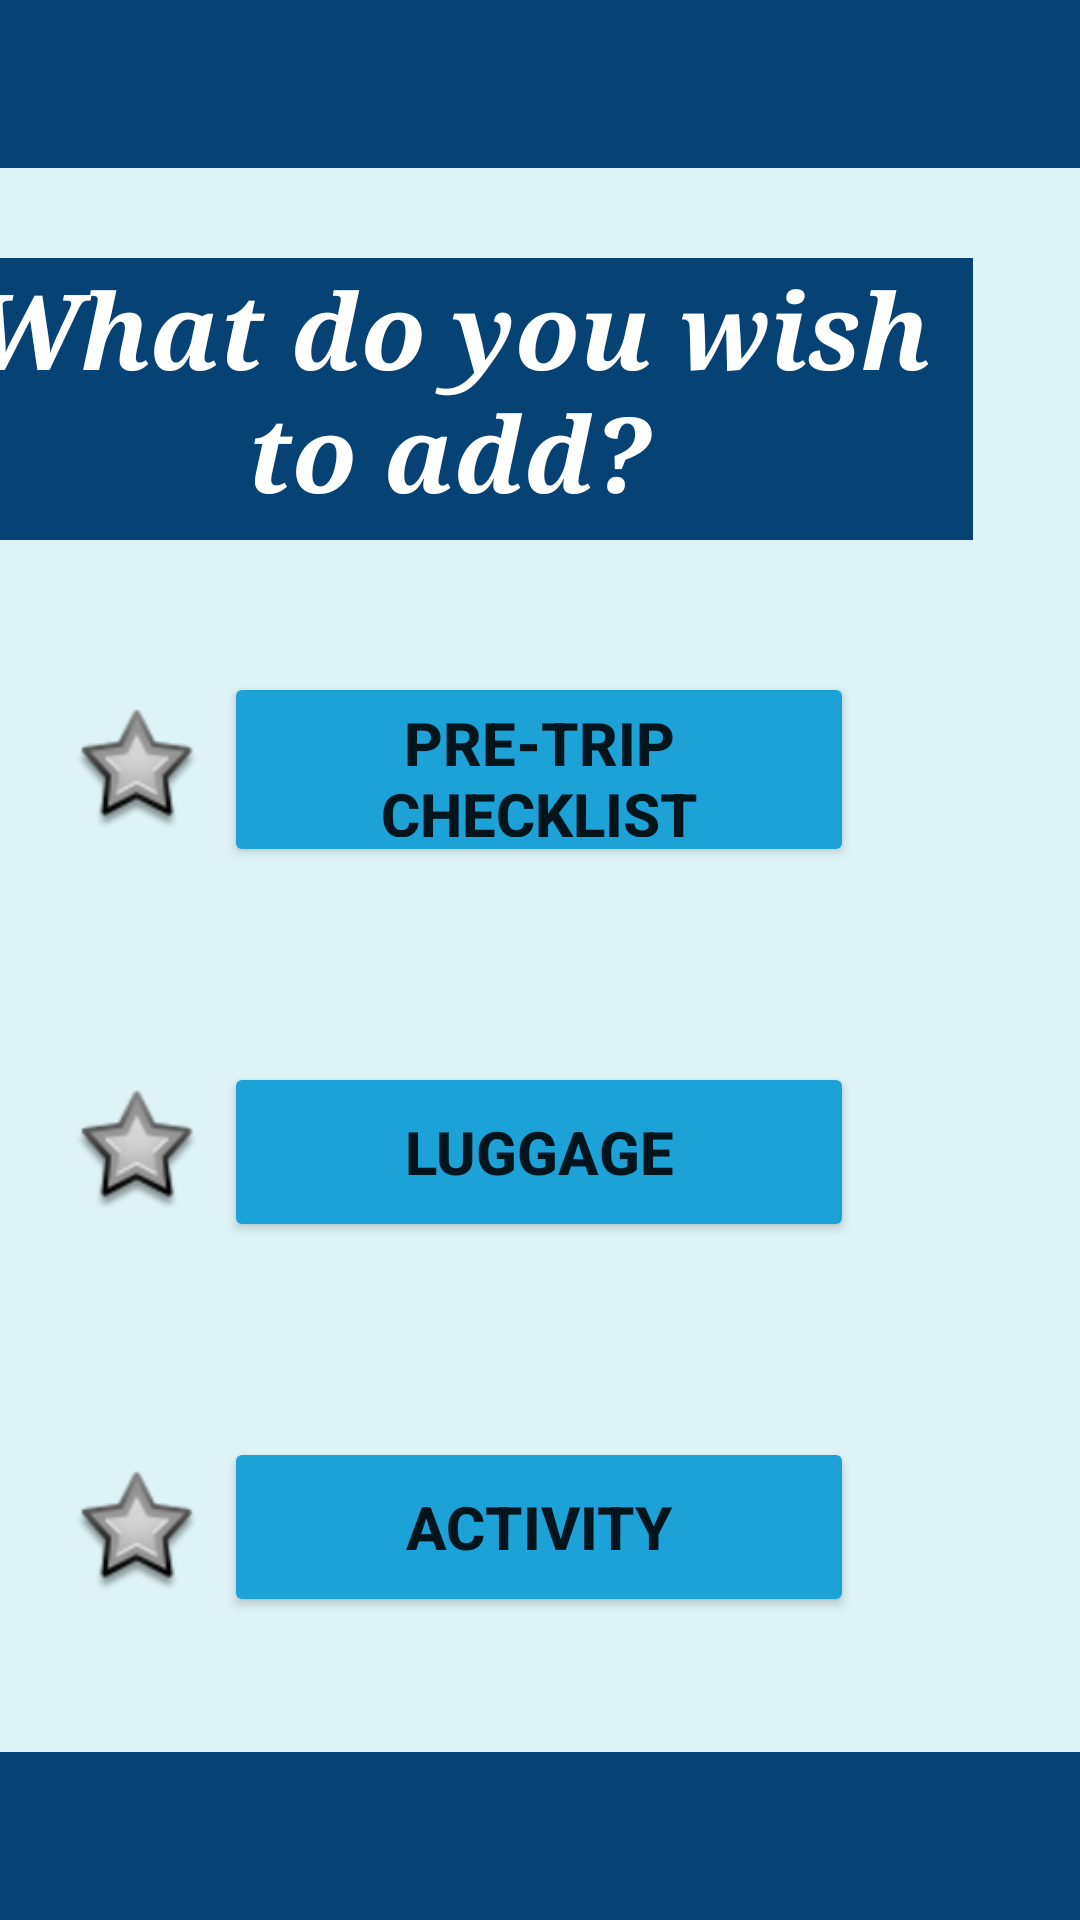

Named icons in this screenshot (1080×1920) and their bounding boxes, (x1, y1, x2, y2):
Star image: (81, 710, 193, 824), (81, 1091, 193, 1205), (81, 1472, 193, 1586)
